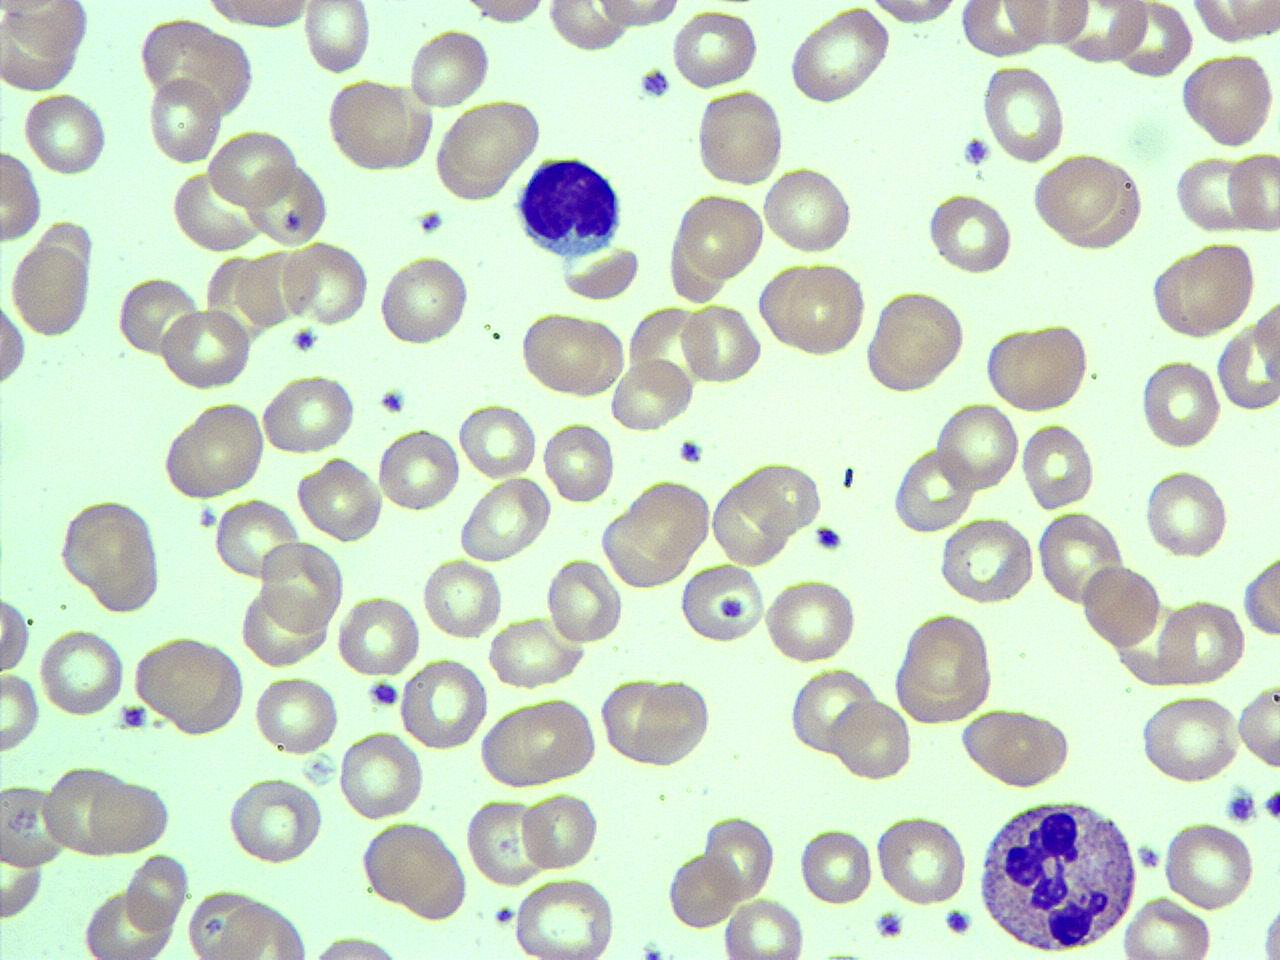Platelets: (300, 750, 344, 788), (1224, 782, 1258, 826), (636, 65, 672, 102), (872, 907, 906, 942), (961, 135, 993, 168), (116, 701, 148, 732), (367, 680, 402, 708), (942, 906, 974, 935), (812, 524, 844, 552), (290, 326, 321, 354), (417, 208, 447, 236), (676, 436, 704, 466), (378, 386, 406, 415), (1258, 787, 1280, 823), (1135, 842, 1163, 870), (492, 902, 518, 927), (198, 503, 220, 530), (639, 938, 664, 960)
RBC: (54, 494, 165, 612), (600, 477, 716, 588), (130, 632, 248, 738), (892, 610, 999, 724), (1029, 151, 1149, 252), (142, 17, 258, 117), (478, 695, 600, 789), (1148, 240, 1260, 342), (862, 288, 968, 395), (756, 259, 870, 358), (359, 820, 471, 920), (786, 3, 894, 106), (159, 400, 268, 502), (434, 96, 544, 197), (322, 76, 430, 175), (1176, 48, 1278, 149), (984, 319, 1092, 414), (518, 309, 628, 400), (956, 705, 1074, 789), (1136, 692, 1240, 786), (692, 86, 786, 188), (938, 514, 1038, 608), (376, 250, 471, 348), (225, 774, 325, 866), (398, 654, 490, 754), (511, 874, 620, 958), (1036, 508, 1126, 609), (980, 61, 1070, 162), (874, 812, 970, 906), (761, 163, 856, 257), (8, 239, 93, 341), (1163, 820, 1257, 912), (258, 371, 359, 456), (35, 628, 128, 720), (673, 190, 767, 281), (932, 402, 1022, 496), (1143, 465, 1231, 561), (458, 474, 554, 562), (762, 576, 858, 664), (337, 726, 426, 820), (1138, 355, 1224, 452), (1157, 596, 1247, 688), (787, 664, 875, 757), (295, 454, 385, 544), (258, 538, 344, 632), (169, 170, 264, 255), (282, 237, 371, 327), (206, 126, 302, 209), (212, 494, 302, 582), (21, 89, 112, 176), (158, 306, 252, 390), (710, 472, 792, 568), (924, 189, 1014, 276), (376, 424, 462, 515), (114, 272, 202, 360), (670, 6, 762, 90), (465, 795, 546, 890), (406, 24, 493, 112), (336, 591, 422, 680), (890, 443, 974, 534), (238, 588, 331, 670), (243, 160, 330, 247), (1079, 562, 1163, 652), (632, 676, 714, 768), (485, 616, 586, 690), (598, 674, 678, 767), (678, 300, 764, 386), (678, 562, 766, 646), (831, 694, 914, 783), (0, 1, 90, 83), (702, 809, 778, 905), (145, 74, 224, 166), (545, 554, 625, 644), (253, 673, 340, 755), (88, 771, 173, 854), (736, 458, 822, 540), (1172, 154, 1258, 236), (1022, 419, 1097, 513), (421, 556, 503, 641), (1218, 304, 1280, 414), (607, 355, 694, 433), (541, 419, 618, 507), (81, 887, 173, 959), (798, 822, 874, 908), (520, 790, 599, 872), (186, 885, 272, 960), (458, 400, 538, 480), (0, 780, 70, 868), (664, 849, 738, 932), (1118, 896, 1214, 958), (720, 893, 808, 960), (122, 849, 190, 935), (214, 900, 310, 960), (302, 0, 374, 78), (558, 243, 642, 304), (998, 0, 1094, 49), (1225, 150, 1279, 236), (546, 0, 630, 53), (0, 828, 47, 922), (0, 148, 46, 244), (1186, 0, 1280, 46), (1236, 682, 1280, 769), (200, 0, 315, 33), (0, 668, 43, 755), (1243, 549, 1279, 644), (302, 931, 414, 960), (0, 290, 29, 394), (0, 584, 32, 677), (592, 0, 688, 29), (454, 0, 552, 28), (866, 0, 967, 27)
WBC: (971, 791, 1141, 955), (512, 151, 628, 264)
